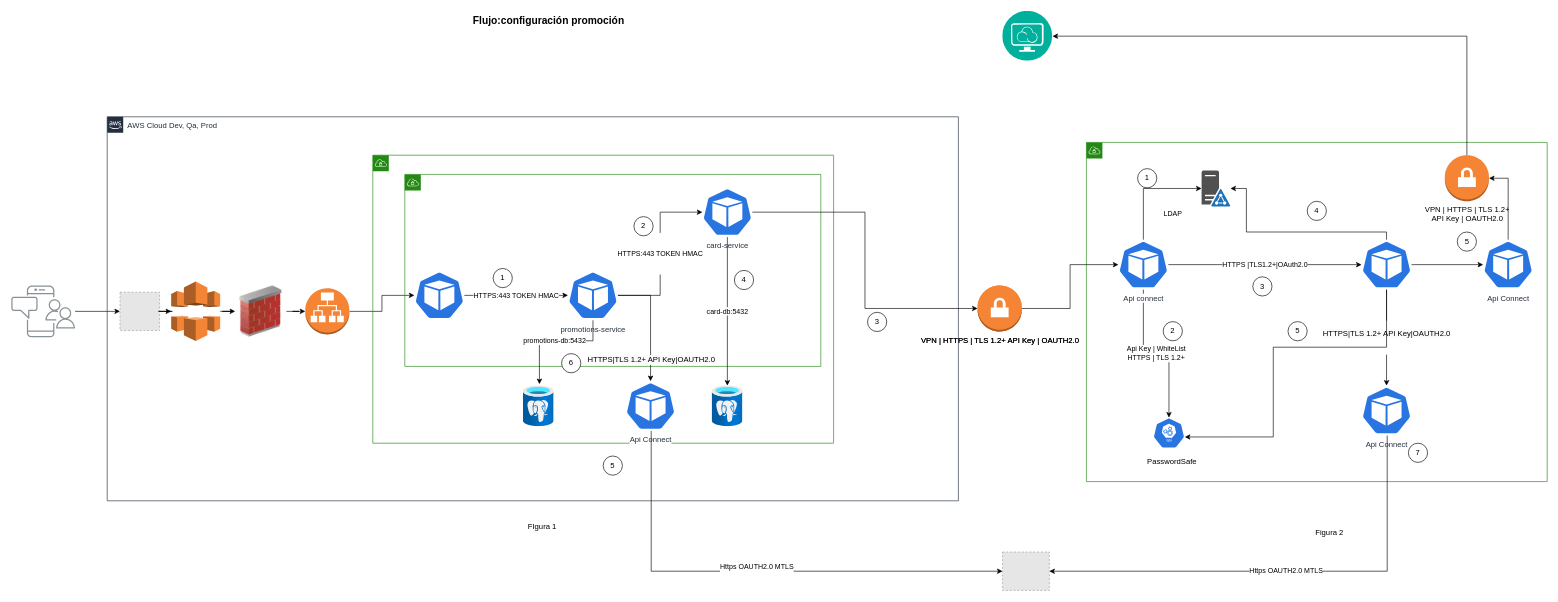
This 1558x602 diagram has some shape labels left out. Grey dashed boxes stand in for pictures. Here are the shapes that lost their labels. From the top down, the box of each, then its label:
(1002, 11, 1052, 61): I2C
(1201, 170, 1230, 206): Active directory
(404, 174, 821, 366): ECSQIK
(1361, 239, 1412, 290): payments-gateway-service
(11, 285, 75, 337): Mobile Client
(171, 281, 220, 341): cloudfront
(305, 288, 349, 334): Application Load Balancer
(414, 270, 464, 320): GraphQL Service
(372, 155, 834, 443): QIKPROD-VPC
(1086, 142, 1547, 482): BPD
(523, 385, 554, 426): promotios-db
(712, 385, 742, 426): card-db
